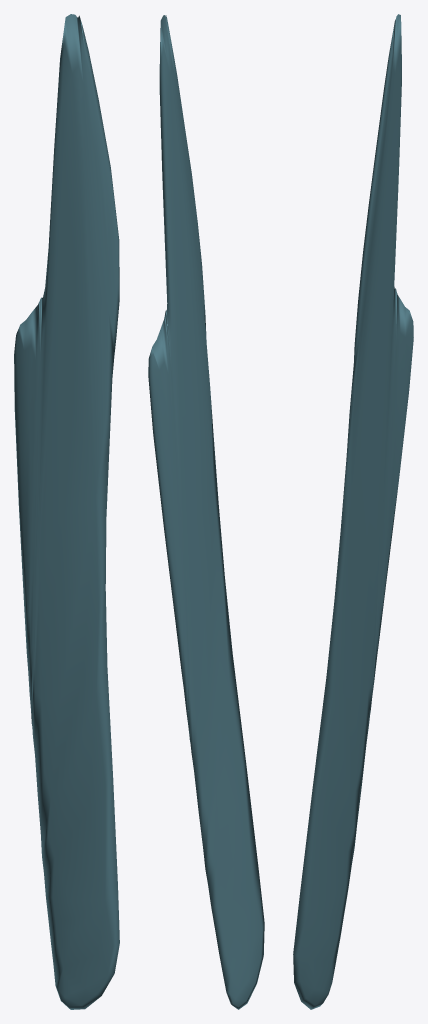
File: Adductor_longus_medial_femur_left.glb
3 views of the same model, side by side, from view 1: azimuth 90°, elevation 25°; view 2: azimuth 150°, elevation 25°; view 3: azimuth 330°, elevation 25° (orthographic). The views are drawn at different scales.
Visible parts, largest first — view 1: Adductor_longus_on_medial_surface_of_femur.l_Generated_Mesh_; view 2: Adductor_longus_on_medial_surface_of_femur.l_Generated_Mesh_; view 3: Adductor_longus_on_medial_surface_of_femur.l_Generated_Mesh_.
Boxes of the visible parts, <box> form: Adductor_longus_on_medial_surface_of_femur.l_Generated_Mesh_: <box>14,14,119,1009</box>; Adductor_longus_on_medial_surface_of_femur.l_Generated_Mesh_: <box>148,15,264,1009</box>; Adductor_longus_on_medial_surface_of_femur.l_Generated_Mesh_: <box>293,14,413,1009</box>.
Size of the model in its own units: 0.00751 by 0.0873 by 0.00873.
